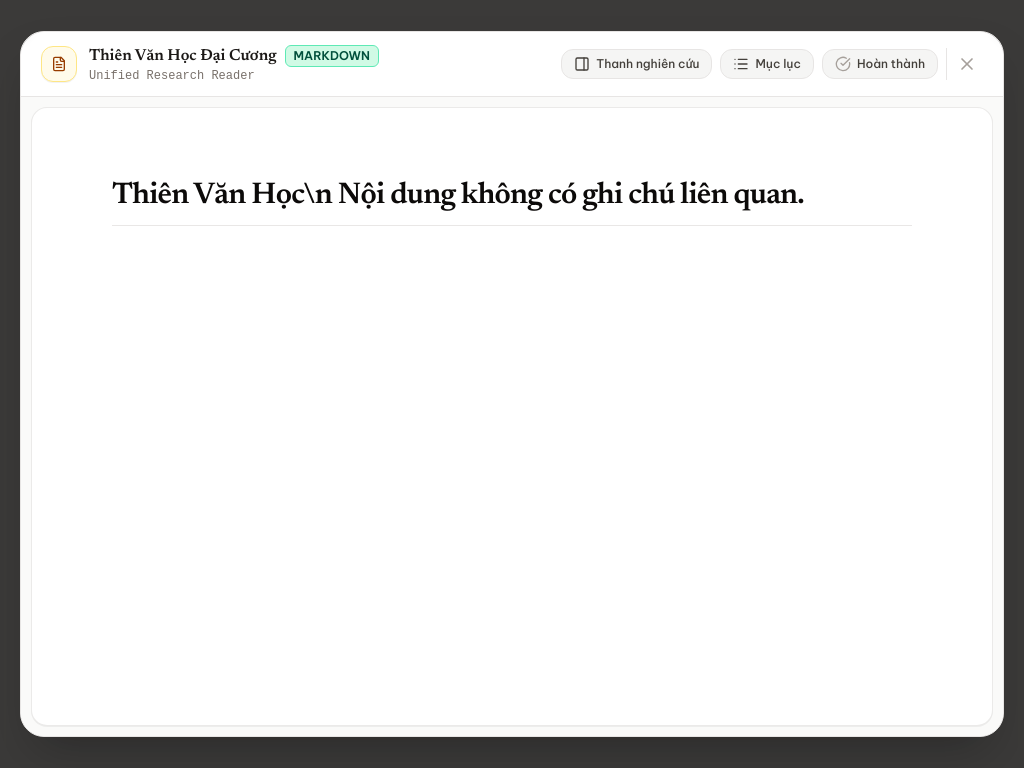
Scenario: Phase R2: Reader Sidebar Document-Scoped Notes › 2.3. displays clean empty state when no notes in DataContext match the active document
Click the button with test id "reader-toggle-sidebar-btn": (637, 64) [561,49,712,79]
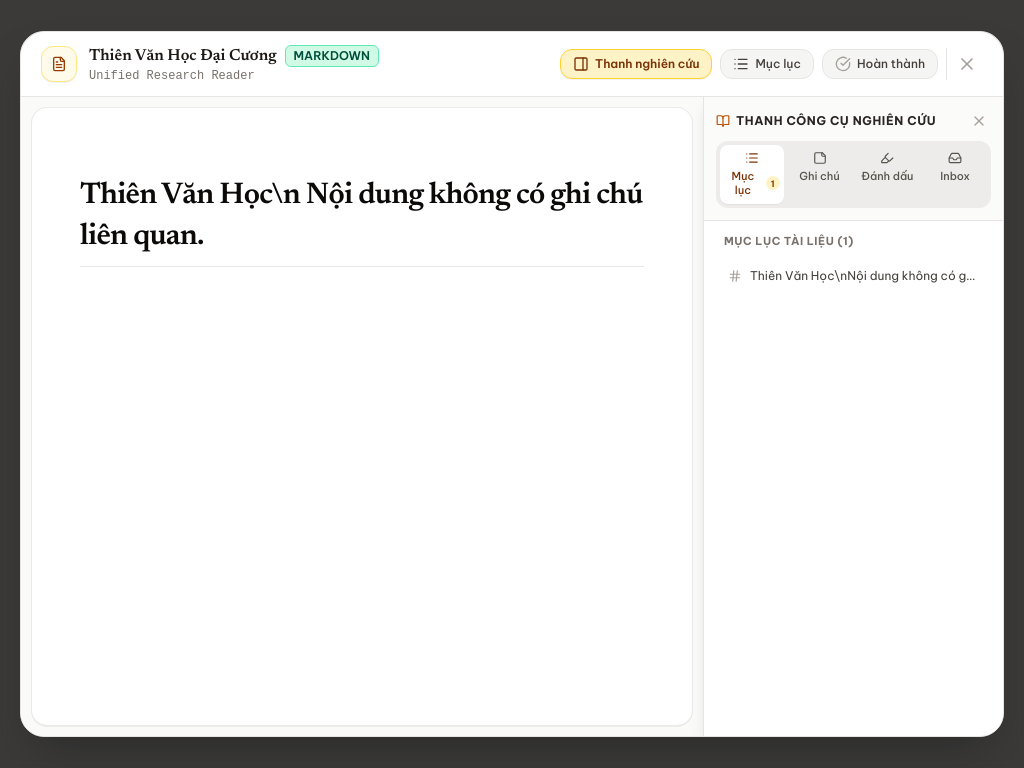
Click the tab with test id "sidebar-tab-notes": (820, 174) [788,145,852,204]
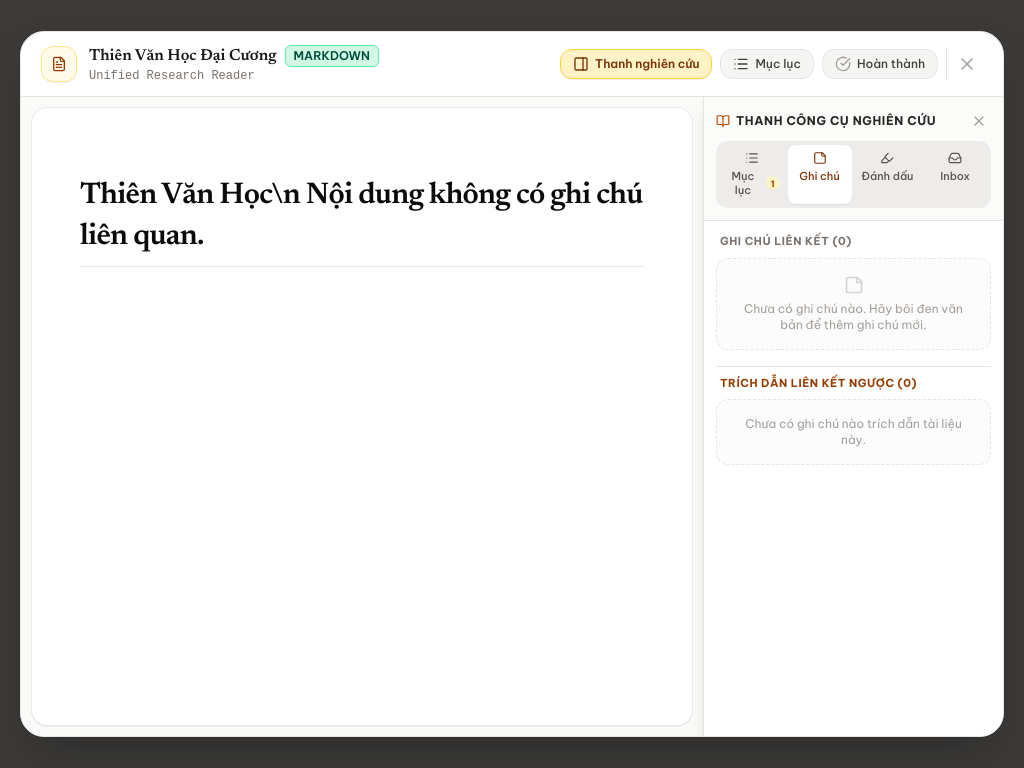
Check: the text "Chưa có ghi chú nào" is shown, box [744,300,963,332]
